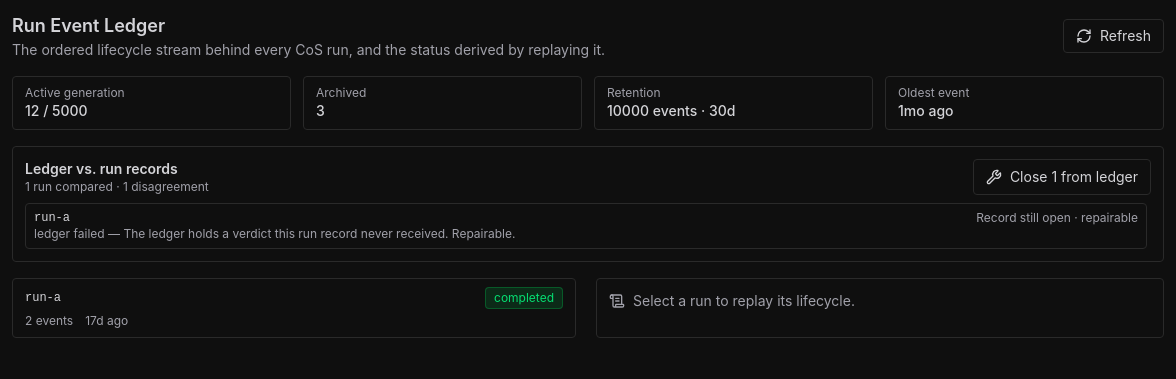
Scenario: RunEventsTab — reconciliation panel › does not report a skipped repair as nothing left to do
Click the button "Close 1 from ledger" at x=1062, y=177, box [973,159,1151,195]
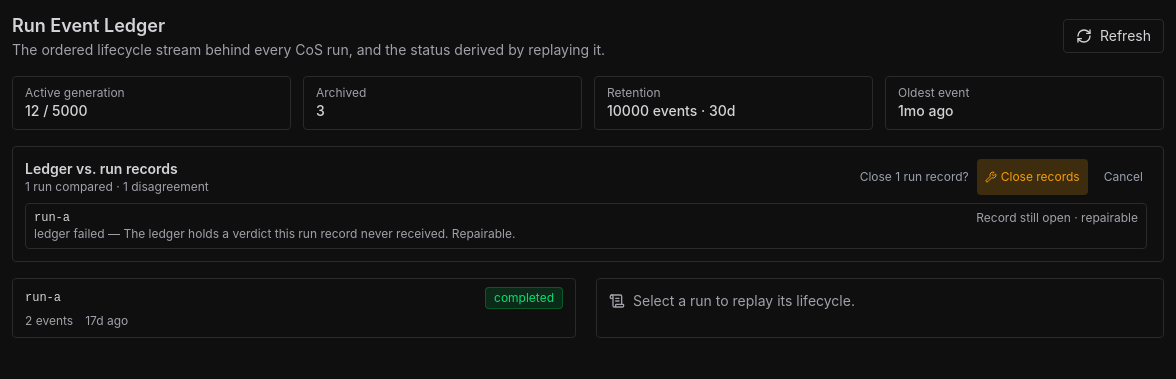
Click the button "Close records" at x=1032, y=177, box [977,159,1088,195]
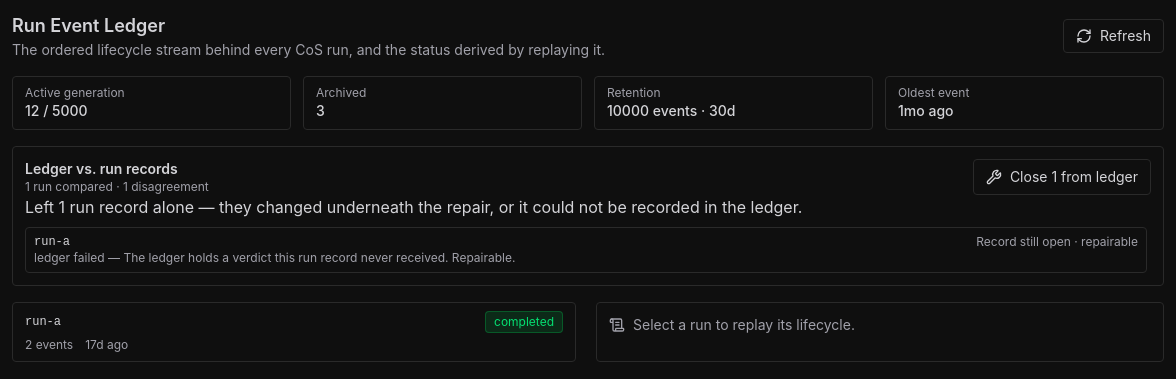
Result: the text "Left 1 run record alone" is shown at [25,197,802,217]
